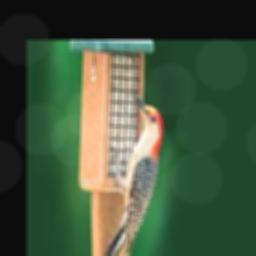Woodpecker: (102, 92, 163, 256)
